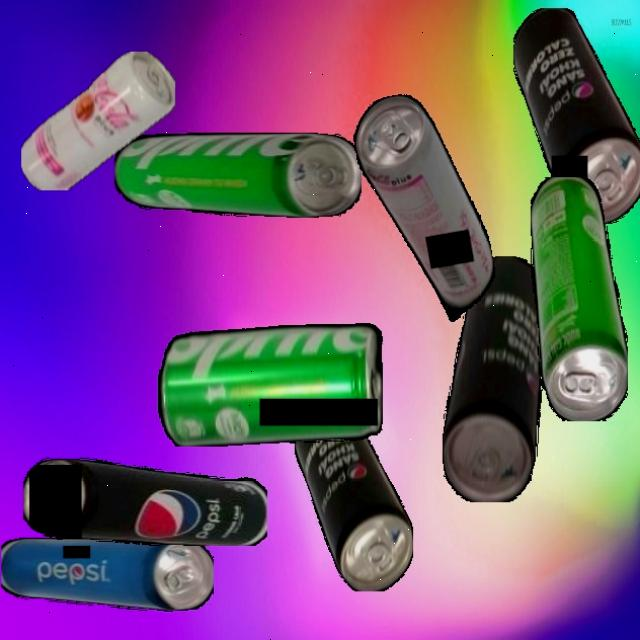debris: (348, 84, 502, 333), (157, 322, 383, 447), (512, 7, 640, 224), (441, 255, 544, 502), (530, 176, 628, 421), (294, 397, 413, 591), (24, 457, 268, 546), (20, 51, 175, 190), (114, 132, 362, 218), (0, 538, 214, 612)
